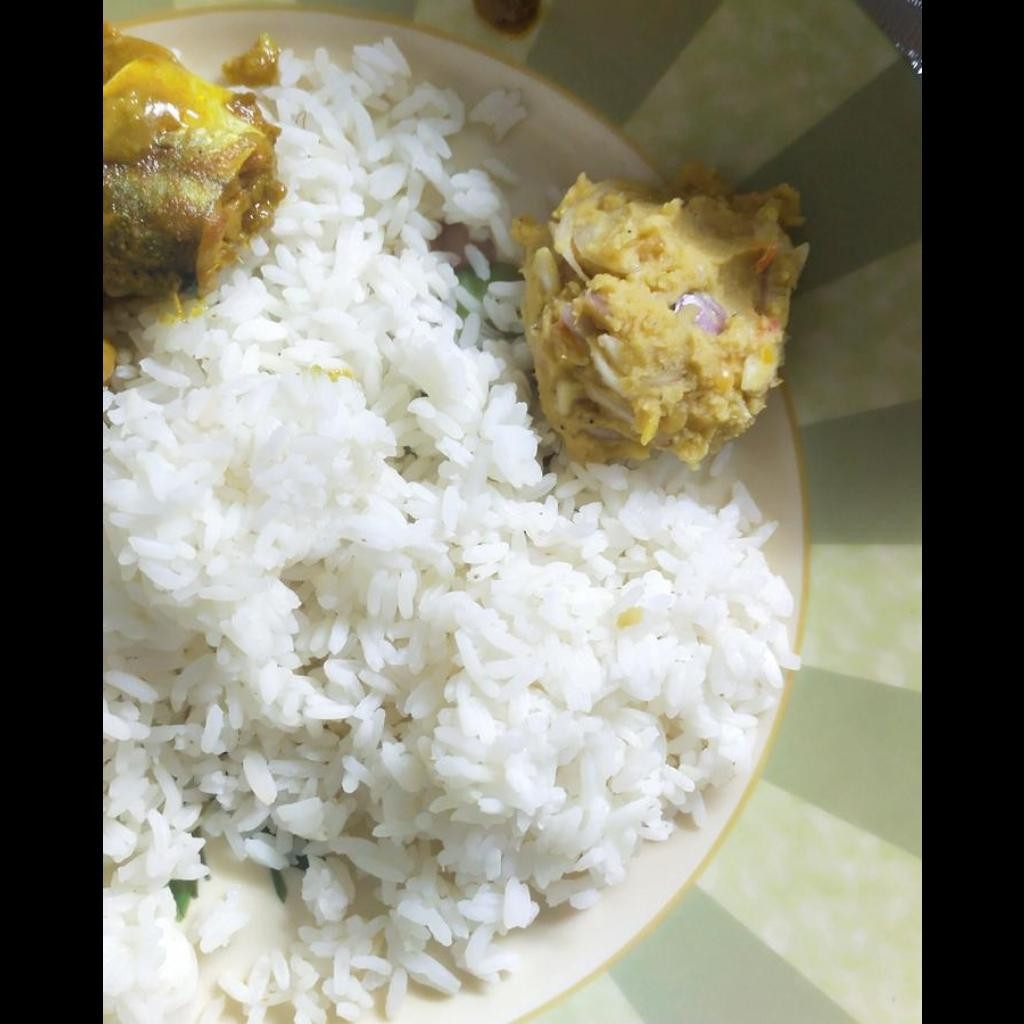fish: (102, 23, 288, 346)
potato-mashed: (510, 160, 811, 471)
rice: (102, 41, 798, 1019)
